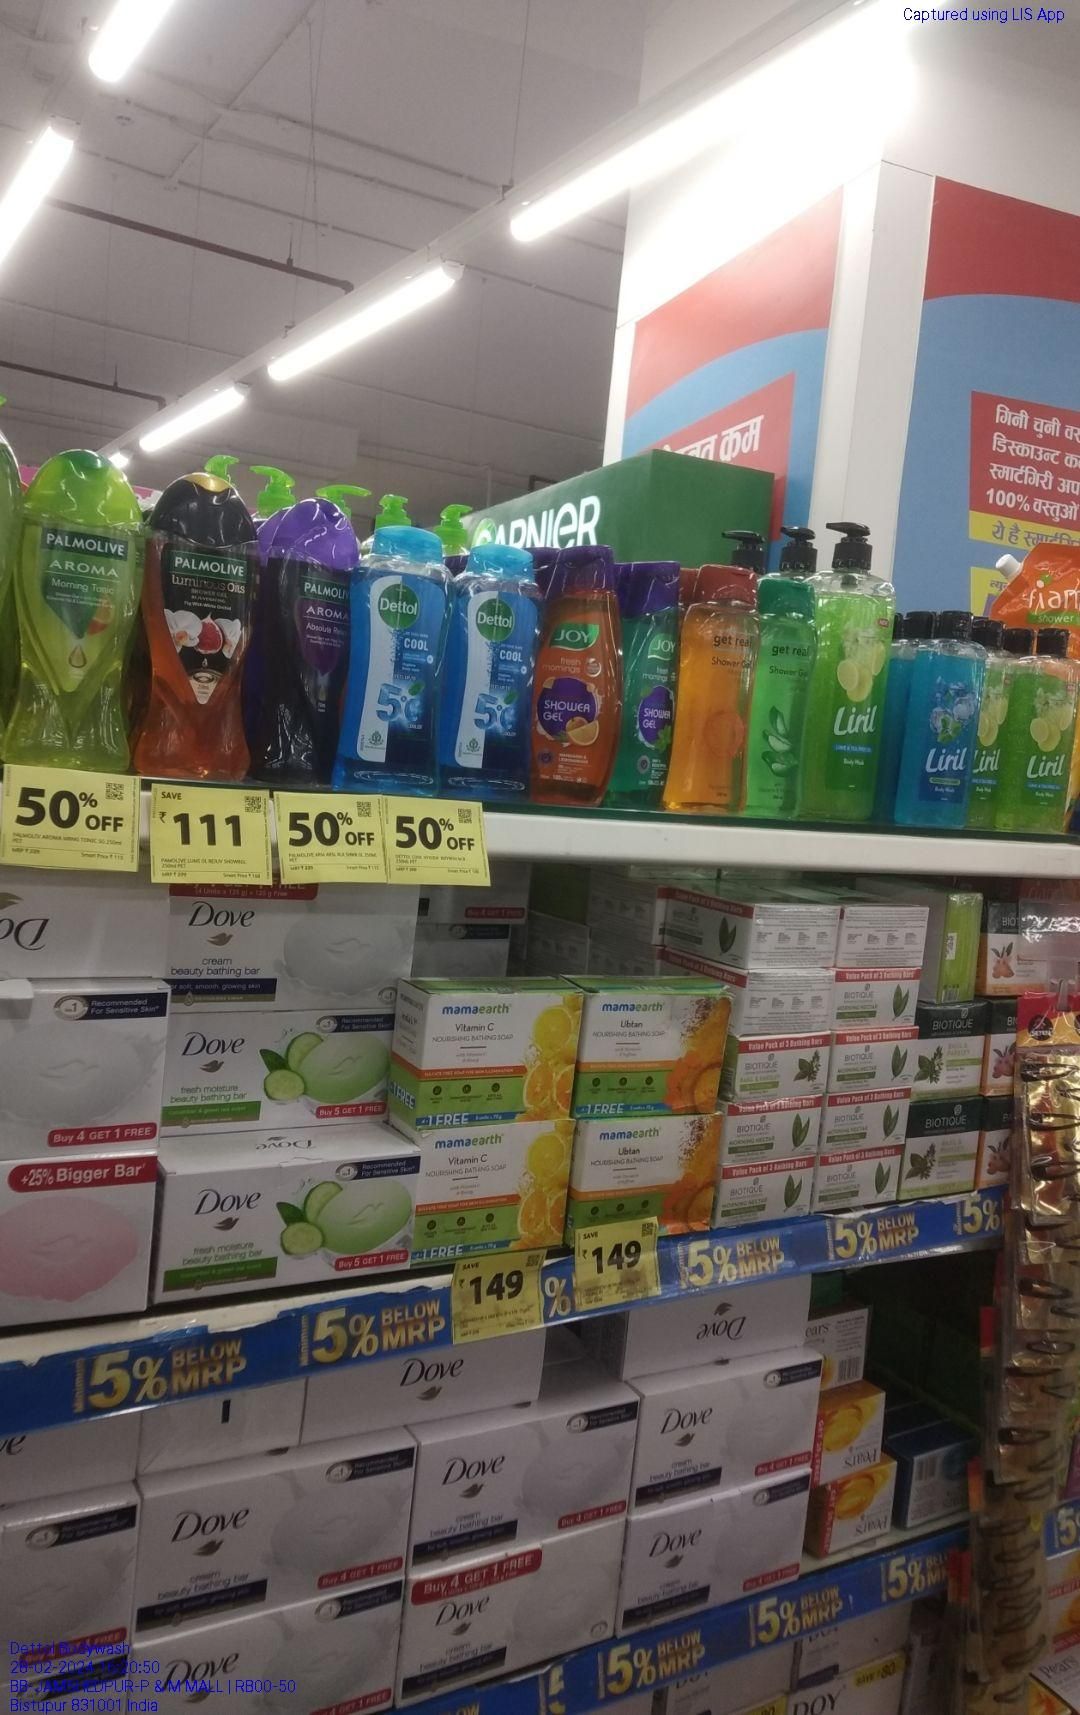Dettol_Bodywash_Cool: (357, 520, 445, 797), (449, 530, 534, 808)
Get_Real_Shower_Gel_Moisturising_Glycerin_300ML: (679, 561, 758, 818)
Joy_Shower_Gel_Mandarin_and_Lemongrass_250ML: (535, 542, 618, 810)
Joy_Shower_Gel_Mint_and_Eucalyptus_250ML: (618, 558, 673, 812)
Liril_Cooling_Mint_Body_Wash_250ML: (910, 608, 977, 833)
Liril_Lime_and_Tea_Tree_Oil_Body_Wash_250ML: (1015, 621, 1076, 836)
Palmolive_Aroma_Morning_Tonic_Shower_Gel_250ML: (19, 441, 147, 772)
Palmolive_Aroma_Relax_250ML: (264, 491, 346, 792)
Palmolive_Luminous_Oils_With_White_Orchid_Shower_Gel_250ML: (151, 470, 254, 785)
